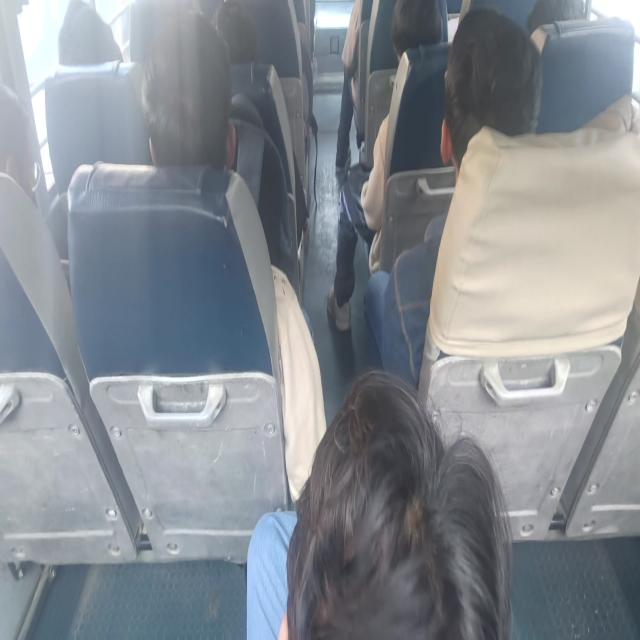person: (139, 8, 327, 502), (245, 368, 514, 638), (363, 6, 542, 387), (326, 0, 444, 332), (213, 1, 309, 251), (140, 9, 236, 169), (0, 83, 40, 203), (335, 0, 362, 176), (57, 0, 124, 66)
